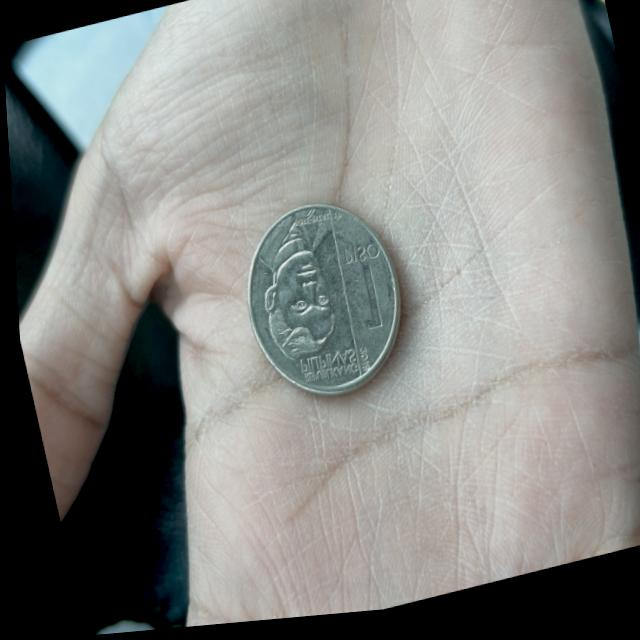1_New_Front: (331, 239, 394, 338)
